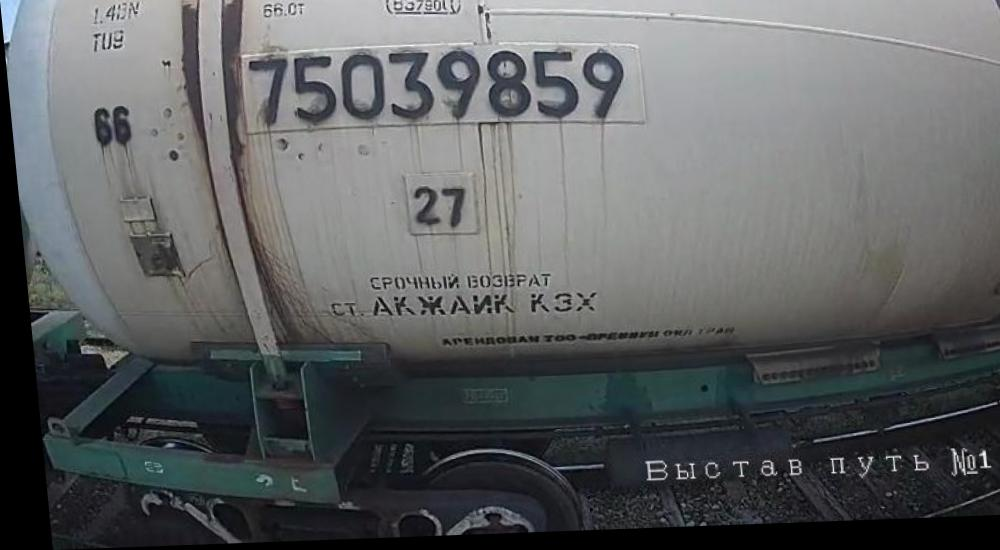Wagon-number: (244, 41, 632, 138)
